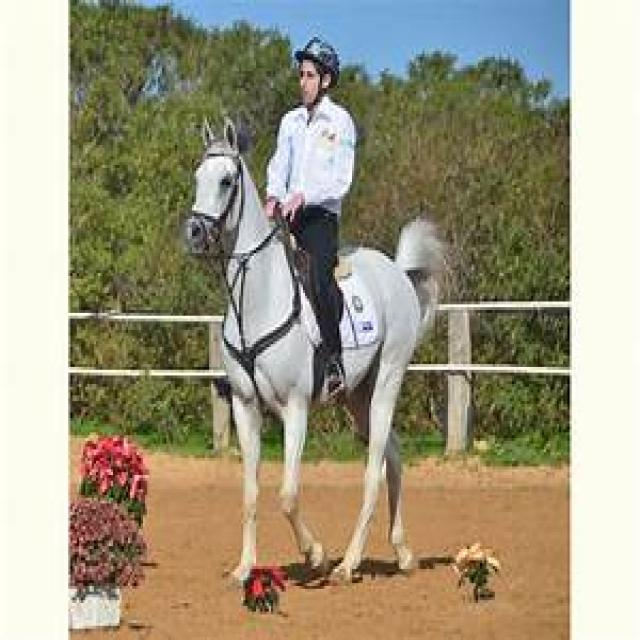horse: (183, 142, 448, 612)
